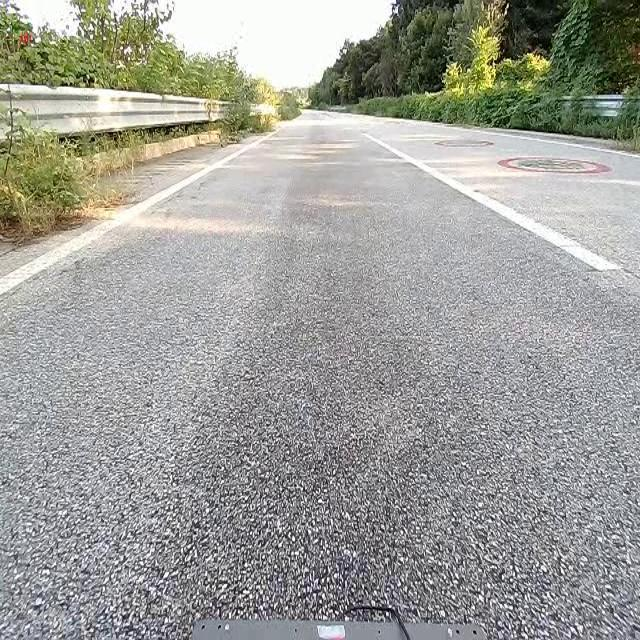Lane: (0, 127, 272, 295), (0, 139, 261, 295), (357, 130, 622, 275), (363, 133, 620, 271)
